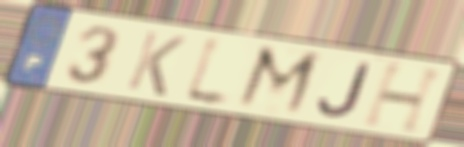3: (65, 24, 123, 86)
H: (359, 61, 450, 137)
J: (315, 60, 375, 120)
K: (122, 29, 190, 100)
L: (178, 32, 237, 114)
M: (231, 42, 326, 121)
